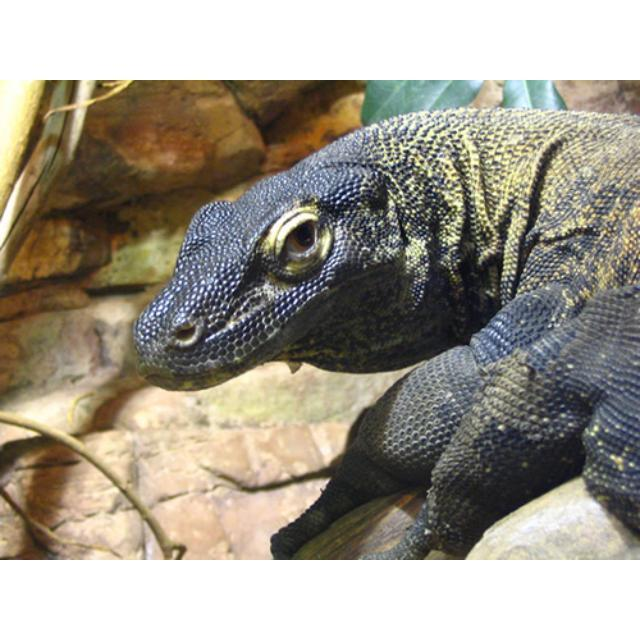KomodoDragon: (131, 103, 637, 558)
